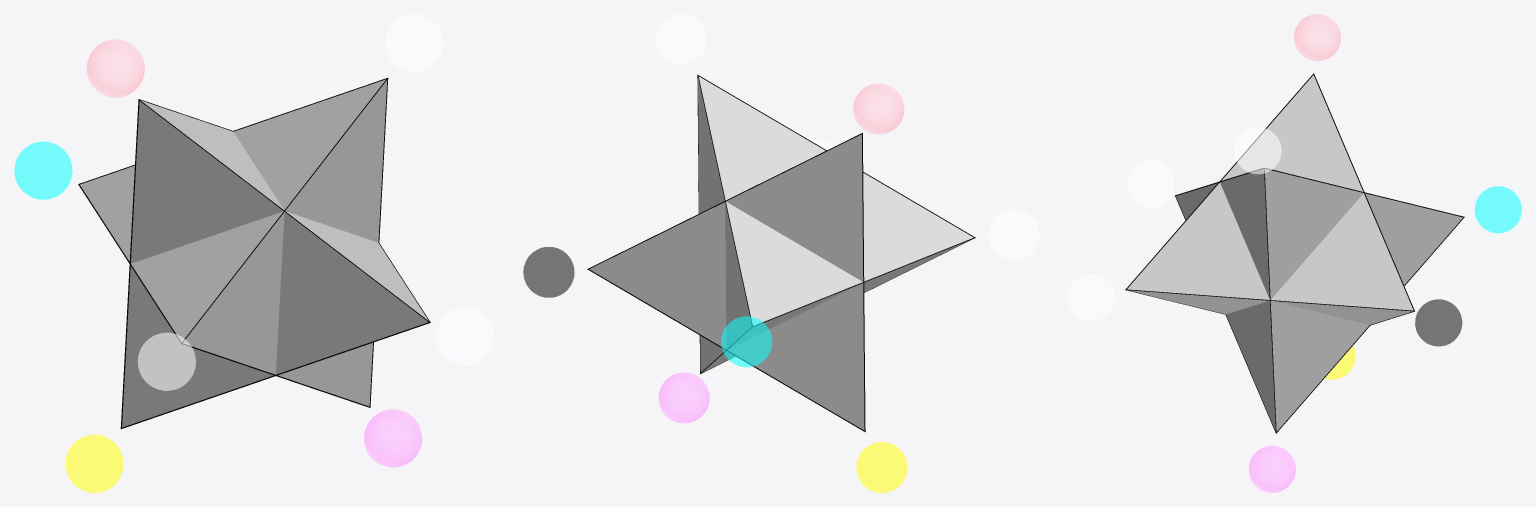
Rendered from uiscene1.glb.
3 renders of one model, left to right at view 1: azimuth 30°, elevation 25°; view 2: azimuth 150°, elevation 25°; view 3: azimuth 270°, elevation 25°, orthographic. The views are drawn at different scales.
Visible parts, largest first — view 1: Star_Tetra_A, Star_Tetra_B, Mentor, Oracle, Jester, Sentinel, Empath, Architect, Explorer; view 2: Star_Tetra_A, Star_Tetra_B, Mentor, Jester, Sentinel, Empath, Witness, Architect, Explorer; view 3: Star_Tetra_A, Star_Tetra_B, Empath, Witness, Architect, Mentor, Oracle, Jester, Sentinel.
Part boxes in pixels (<box>): Star_Tetra_A: <box>120,99,430,428</box>; Star_Tetra_B: <box>78,78,388,407</box>; Mentor: <box>14,141,72,199</box>; Oracle: <box>436,307,494,365</box>; Jester: <box>364,409,422,467</box>; Sentinel: <box>86,39,144,97</box>; Empath: <box>137,332,195,390</box>; Architect: <box>385,14,443,72</box>; Explorer: <box>65,434,123,492</box>; Star_Tetra_A: <box>587,133,865,432</box>; Star_Tetra_B: <box>697,74,975,373</box>; Mentor: <box>721,316,772,367</box>; Jester: <box>658,372,709,423</box>; Sentinel: <box>853,83,904,134</box>; Empath: <box>988,209,1039,259</box>; Witness: <box>523,247,574,297</box>; Architect: <box>655,14,706,64</box>; Explorer: <box>856,442,907,492</box>; Star_Tetra_A: <box>1125,73,1414,325</box>; Star_Tetra_B: <box>1175,167,1464,433</box>; Empath: <box>1127,160,1174,207</box>; Witness: <box>1415,299,1462,346</box>; Architect: <box>1234,127,1281,174</box>; Mentor: <box>1474,186,1521,233</box>; Oracle: <box>1068,273,1115,320</box>; Jester: <box>1248,445,1295,492</box>; Sentinel: <box>1294,14,1341,61</box>.
Size of what is drawn, in the model's own units: 7.17 by 7.88 by 8.62.
